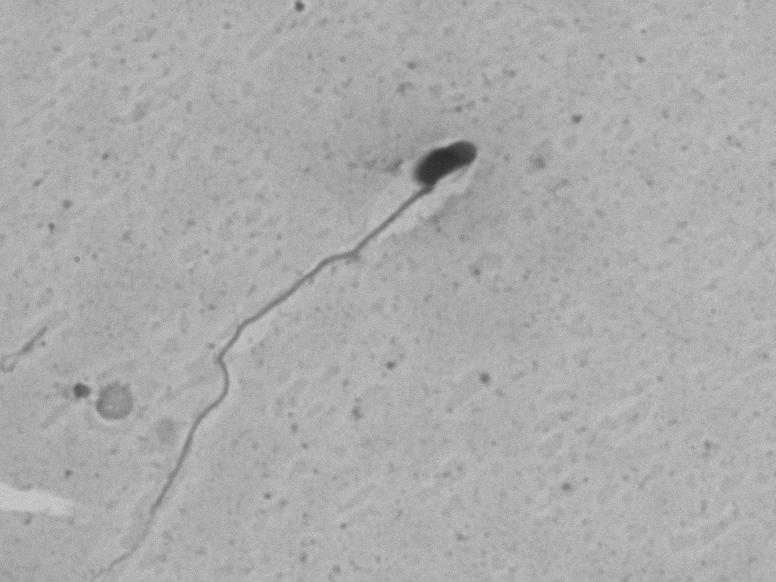Abnormal: (155, 128, 551, 546)
